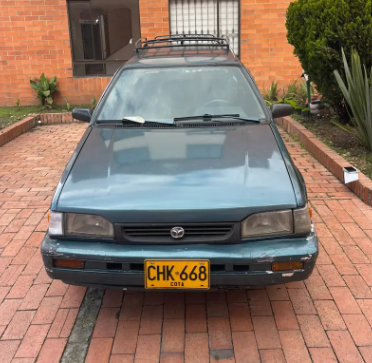placa: (144, 259, 210, 289)
